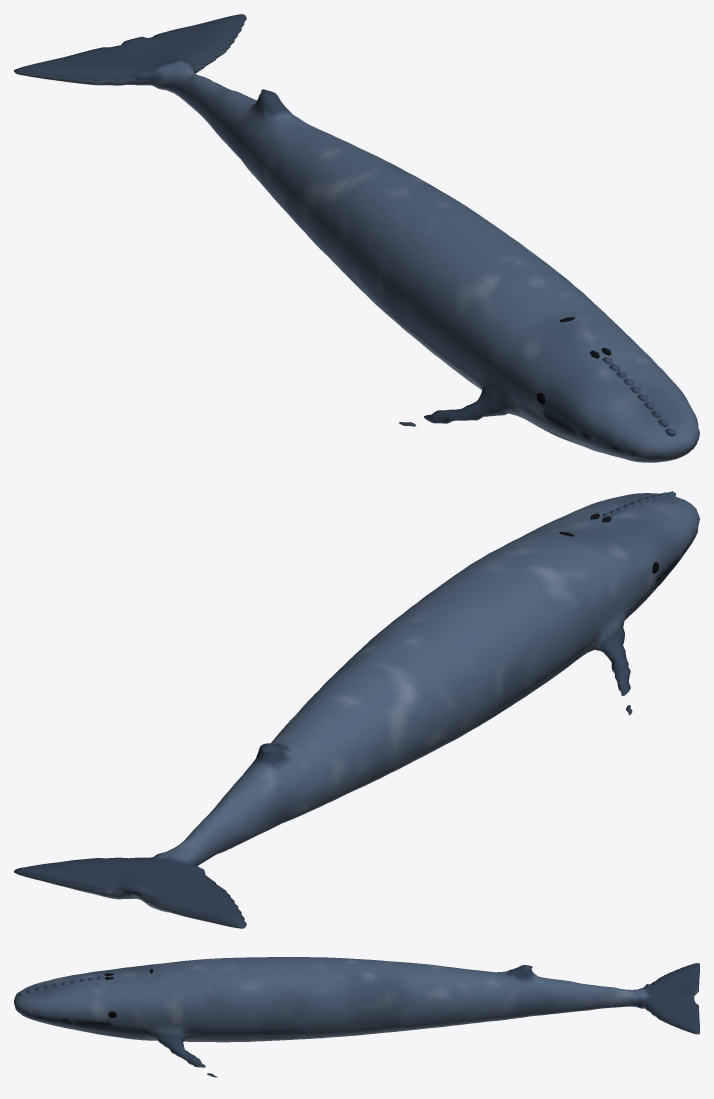
The model's file is BalaenopteraMusculus.fbx.
3 views of the same model, one above another, from view 1: azimuth 30°, elevation 25°; view 2: azimuth 150°, elevation 25°; view 3: azimuth 270°, elevation 25° (orthographic). The views are drawn at different scales.
Parts seen in each view (by area): view 1: BalaenopteraMusculus; view 2: BalaenopteraMusculus; view 3: BalaenopteraMusculus.
Part boxes in pixels (left/top/right/bottom): BalaenopteraMusculus: left=14, top=14, right=699, bottom=462; BalaenopteraMusculus: left=14, top=491, right=699, bottom=928; BalaenopteraMusculus: left=14, top=957, right=699, bottom=1077.
Size of the model in its own units: 0.5105 by 0.2675 by 1.96.
